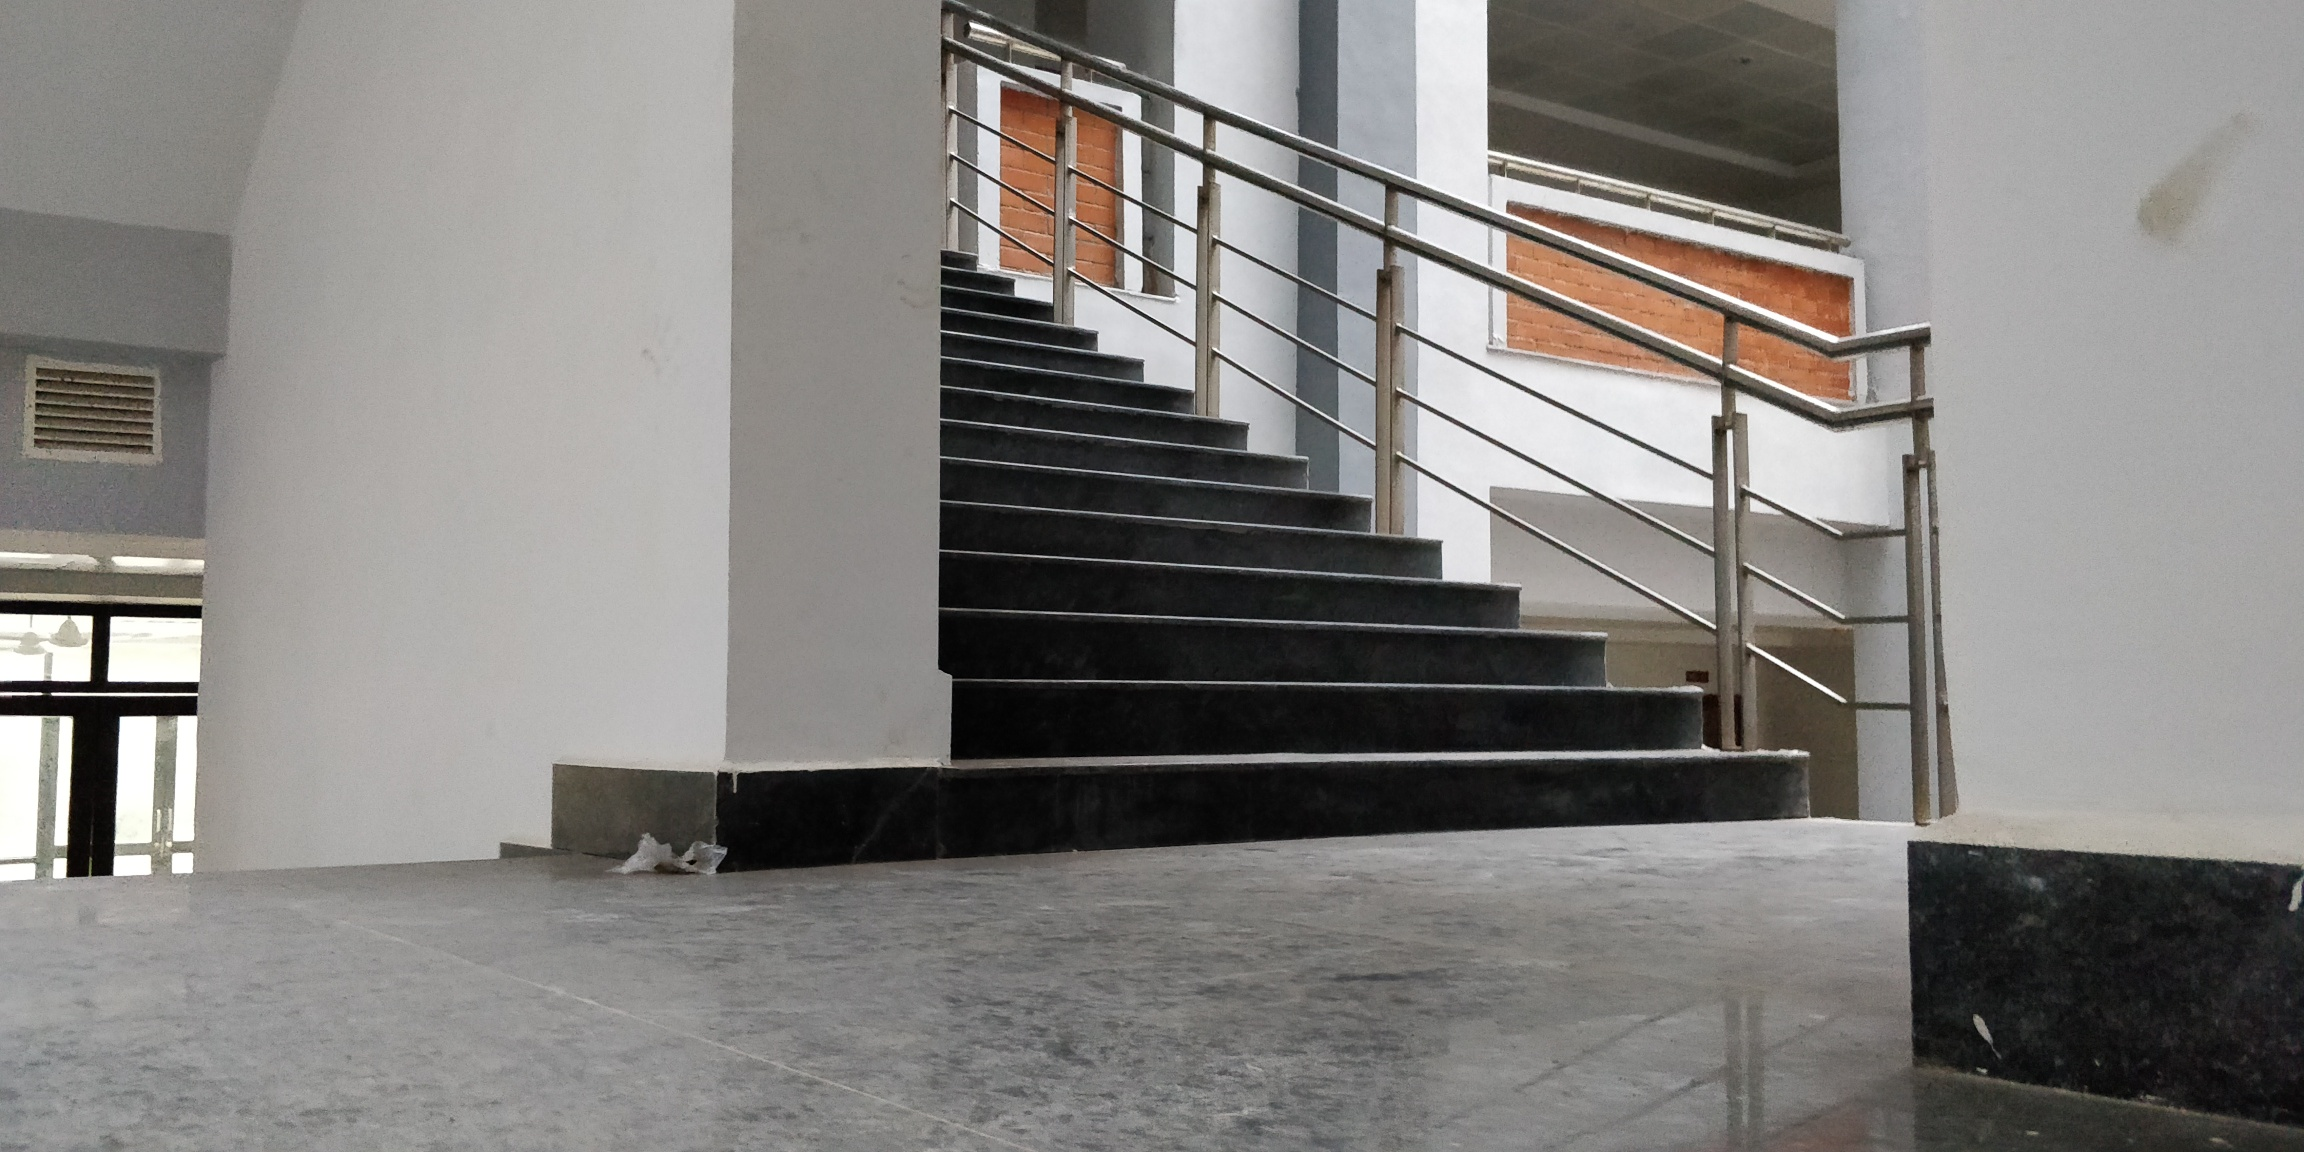stairs_up: (915, 220, 1822, 876)
